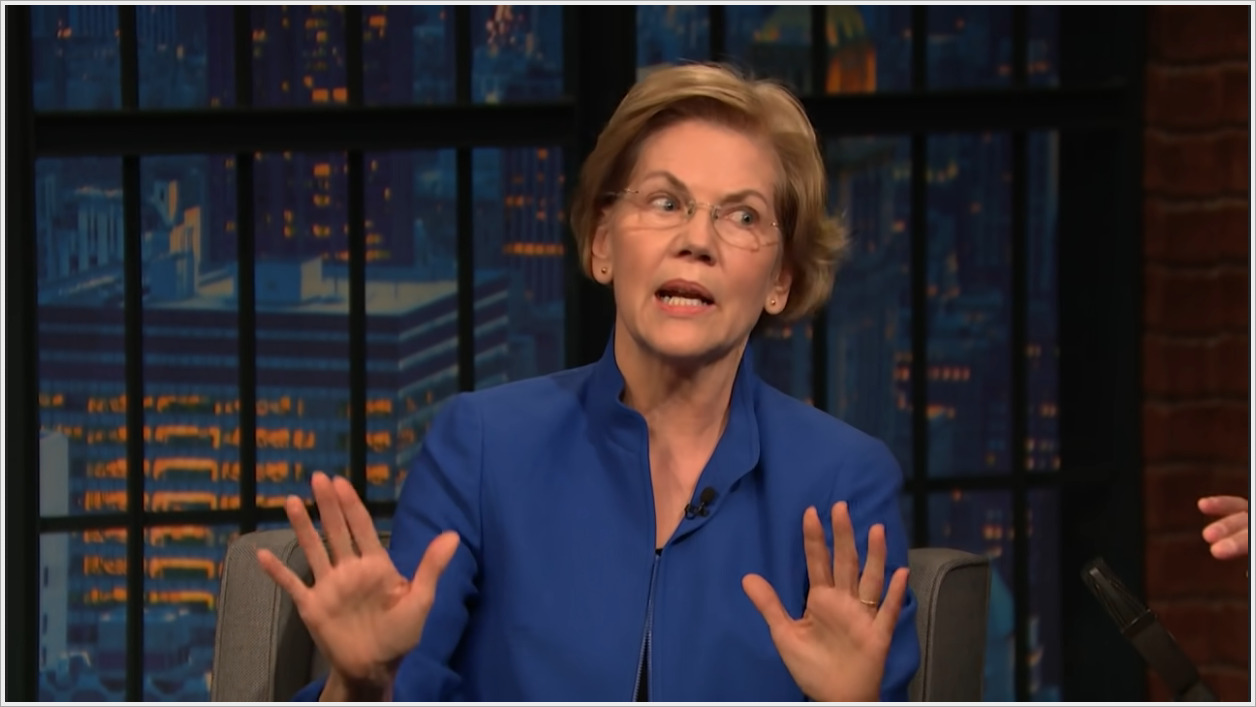hand: (253, 458, 469, 685), (738, 495, 915, 701)
